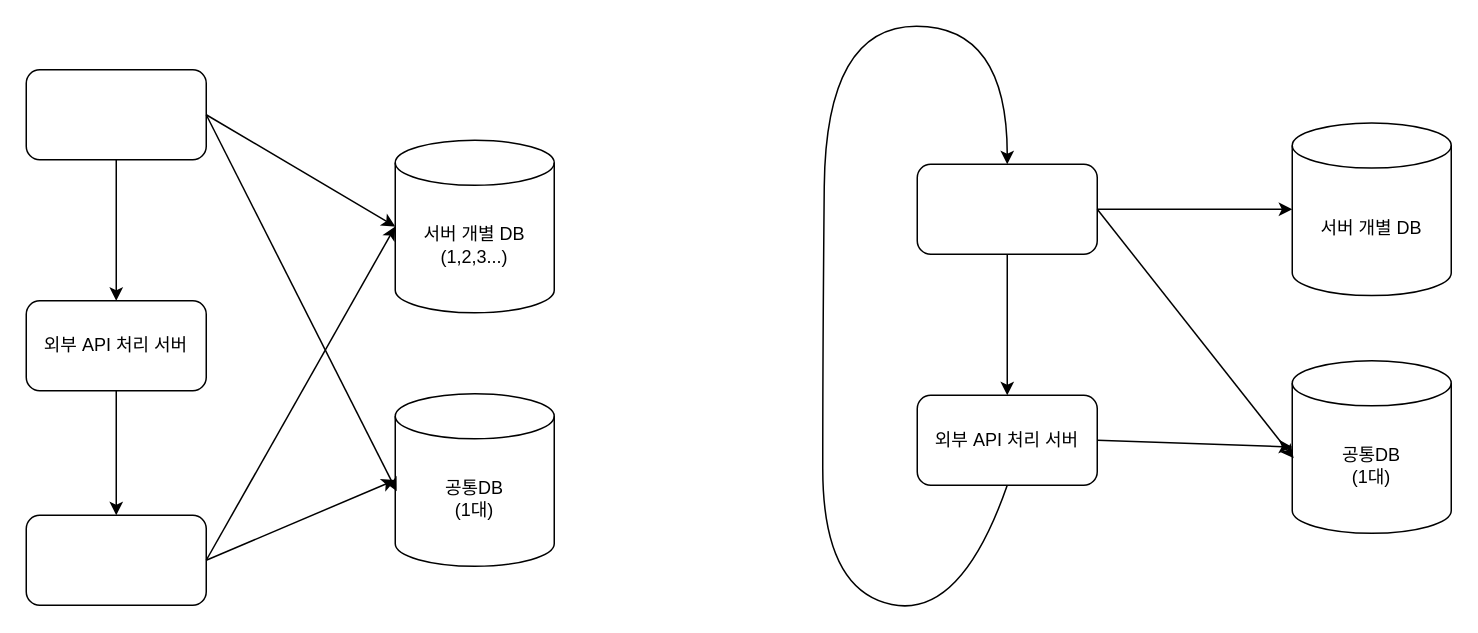
This 1478x633 diagram has some shape labels left out. The shapes that lost their labels are listed below. From the top down, each one's centre as x and y in pixels, then its label:
At (x=115, y=114): "요청 서버 (1,2,3 ...)".
At (x=1006, y=208): "요청 / 결과 저장 서버".
At (x=115, y=559): "결과 저장 서버 (1,2,3 ...)".
